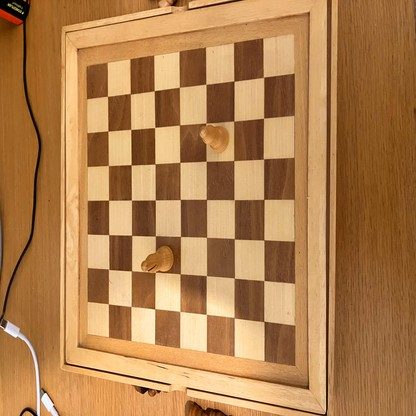bishop_white: (141, 246, 173, 274), (201, 126, 229, 151)
